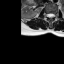CCS_normal: (49, 10, 52, 21)
LFS_normal: (54, 11, 56, 18)
LLS_normal: (52, 11, 54, 19)
RFS_normal: (44, 10, 46, 19)
RLS_normal: (46, 11, 49, 19)
